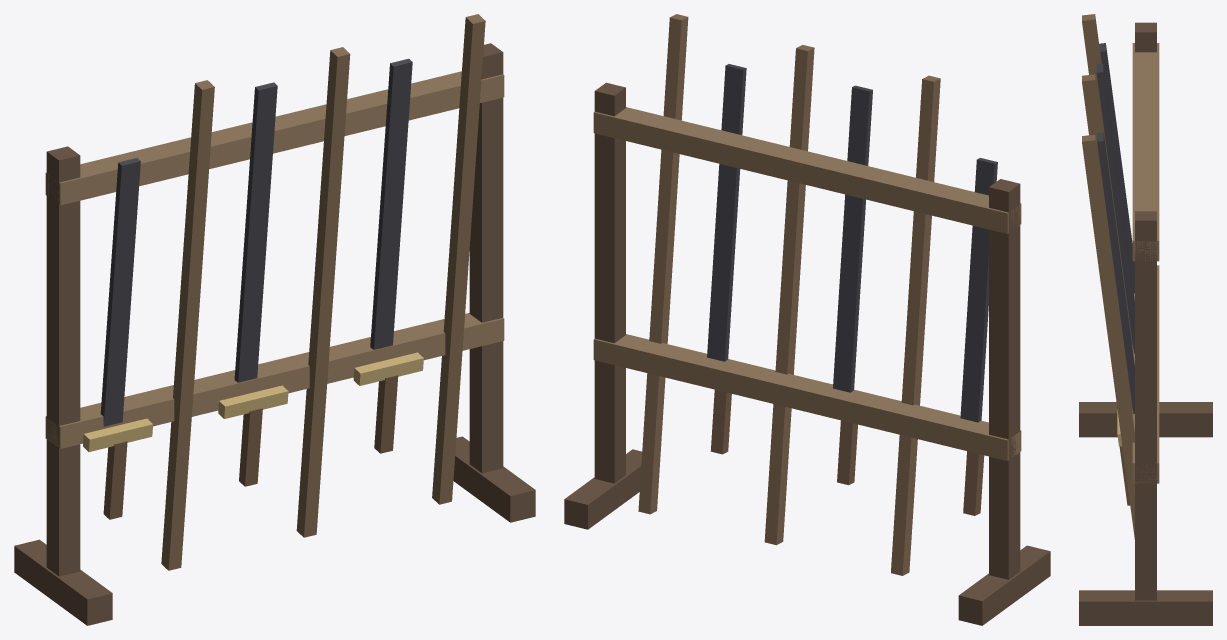
Rendered from weapon_rack.glb.
The picture shows the model from 3 angles, left to right: view 1: azimuth 30°, elevation 25°; view 2: azimuth 150°, elevation 25°; view 3: azimuth 270°, elevation 25°; orthographic projection. The views are drawn at different scales.
Parts seen in each view (by area): view 1: weapon_rack; view 2: weapon_rack; view 3: weapon_rack.
Boxes of the visible parts, x1,y1,x2,y2 form: weapon_rack: [14, 14, 535, 625]; weapon_rack: [564, 14, 1050, 625]; weapon_rack: [1079, 14, 1212, 625].
Size of the model in its own units: 2.12 by 2.3 by 0.6.
